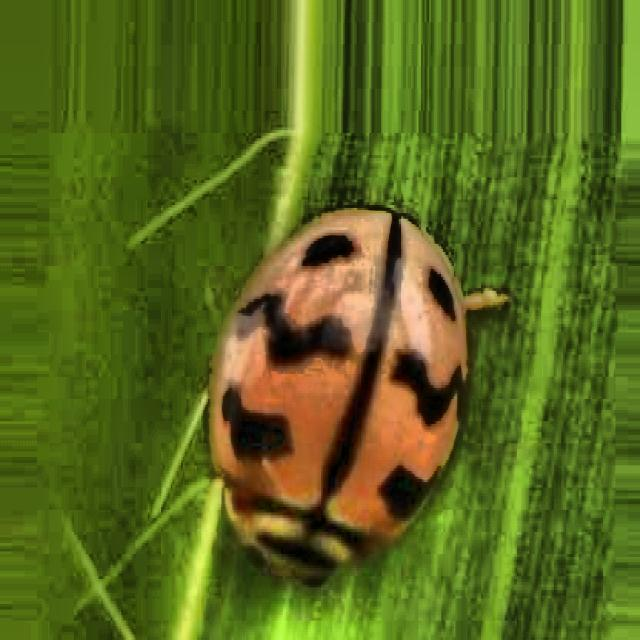Asian-Lady-beetle: (174, 110, 510, 640)
